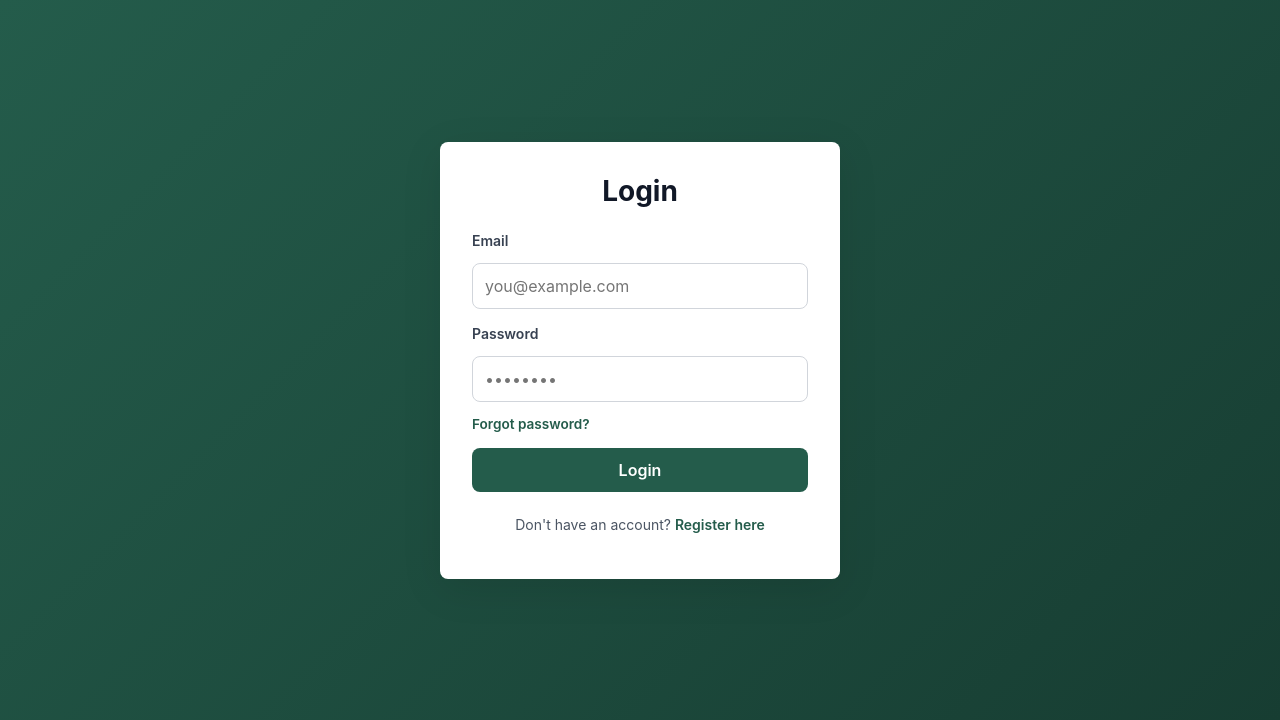
Scenario: Auth flows error handling › shows user-not-found message on login
Type "missing@example.com" into the field labelled "Email" at (640, 286), box [472,262,808,308]
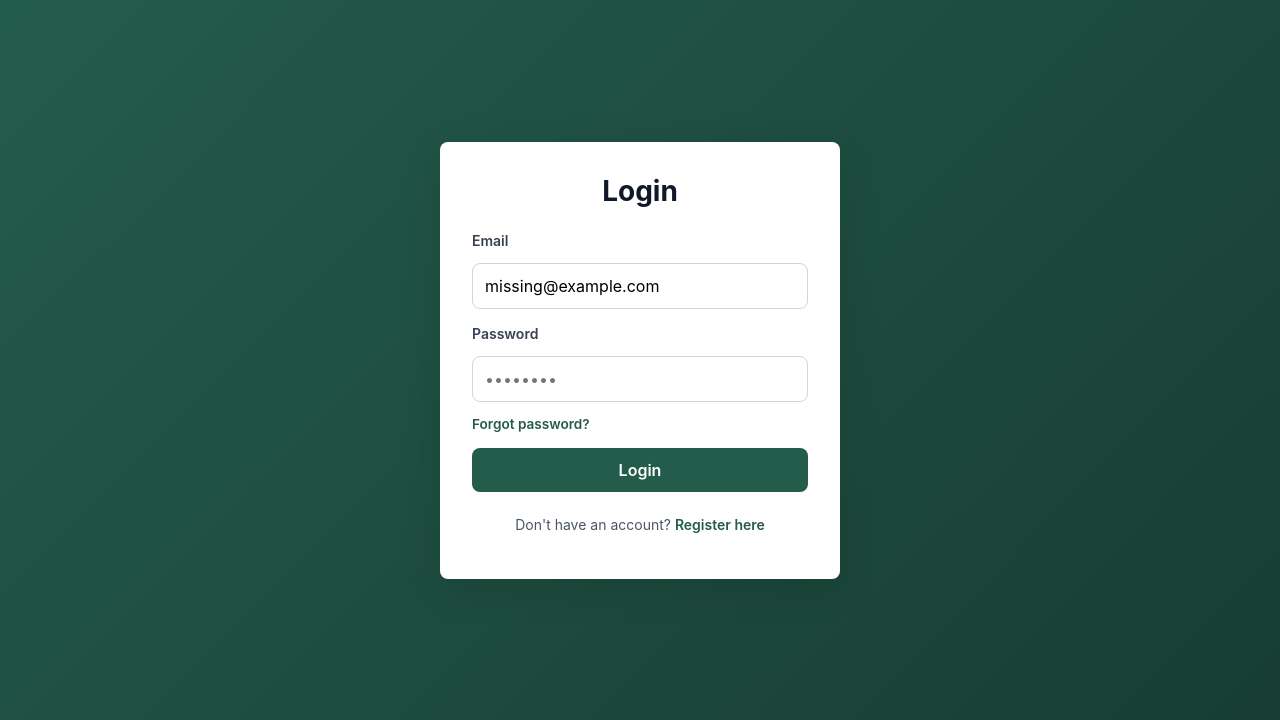
Type "Password1!" into the password field labelled "Password" at (640, 378), box [472,356,808,402]
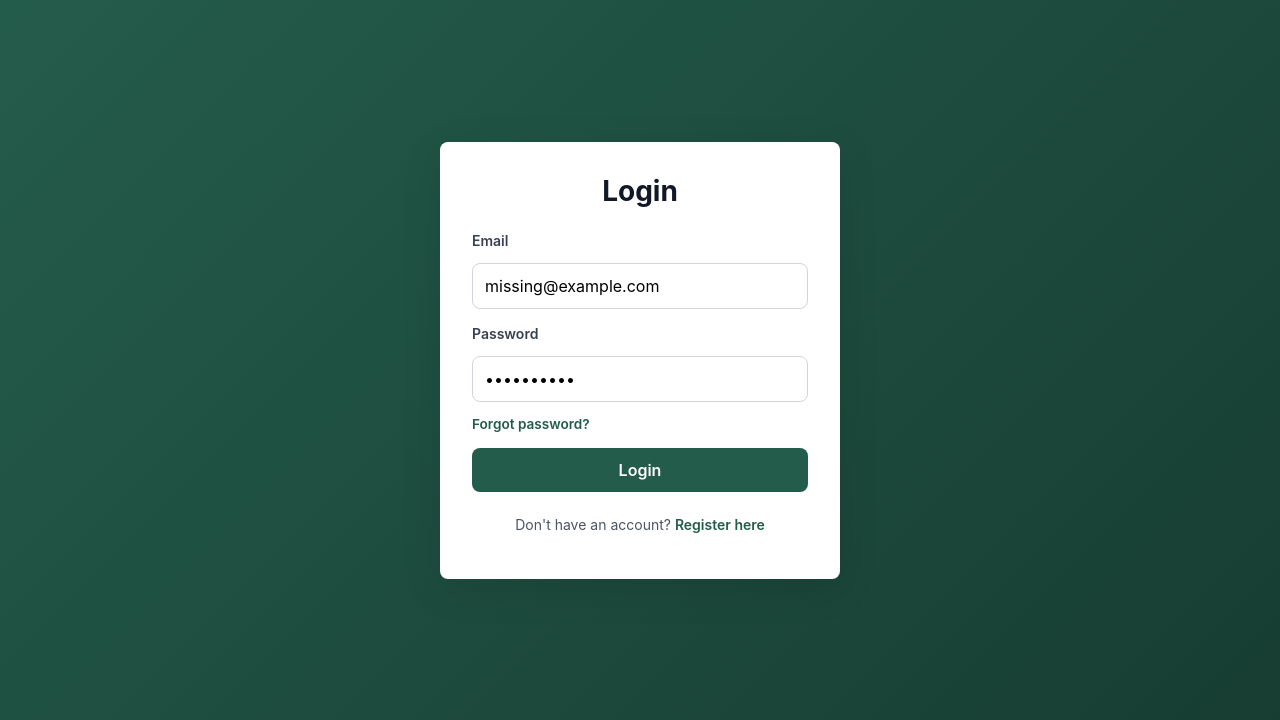
Click the button "Login" at (640, 470), box [472,448,808,492]
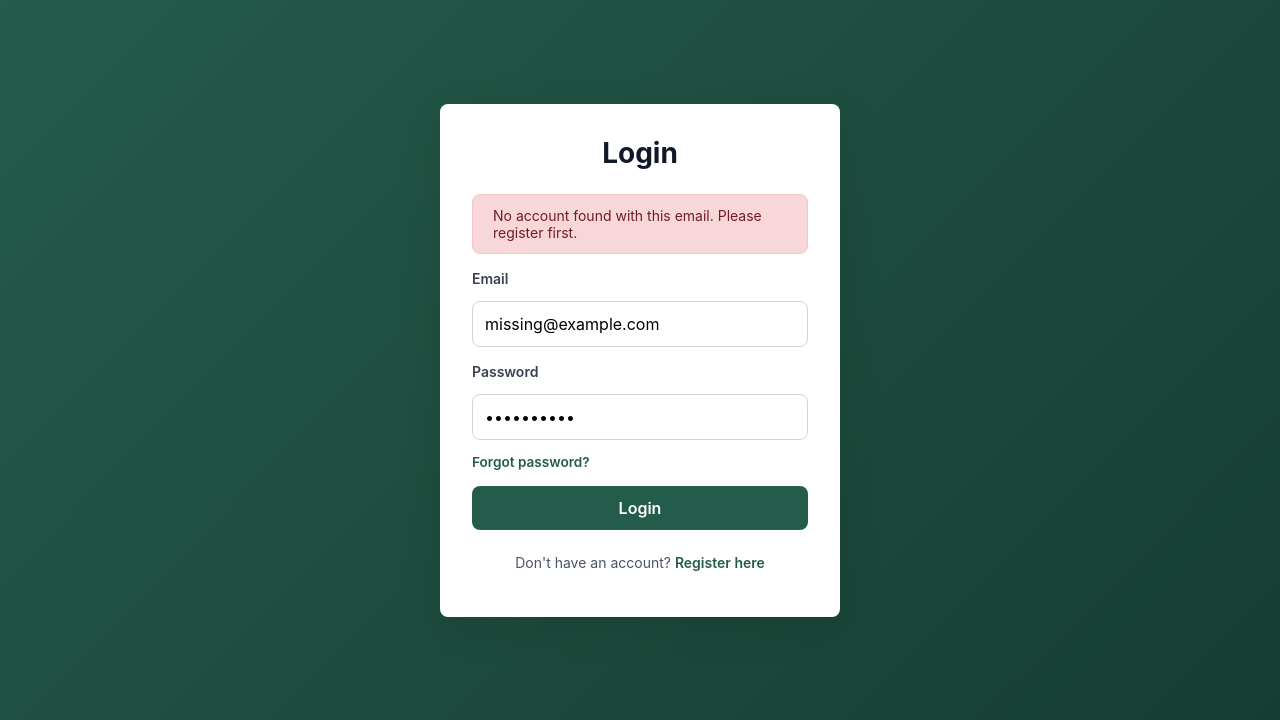
Now the text "No account found with this email. Please register first." is shown, box [472,194,808,254]
